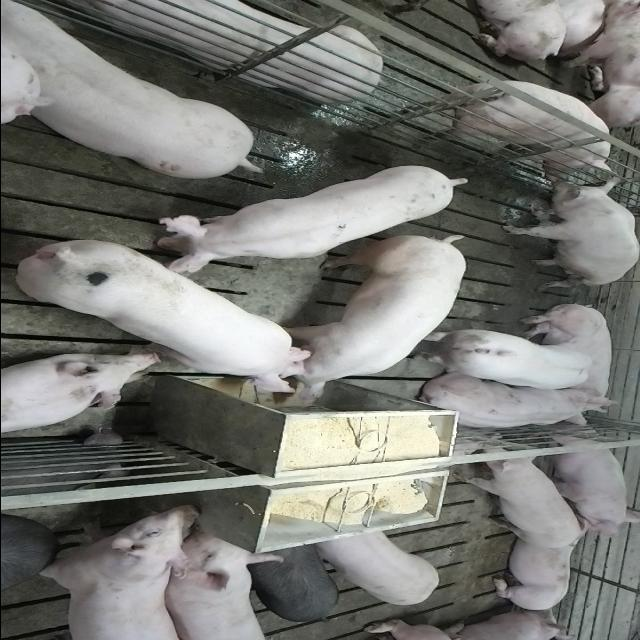Feeding: (13, 232, 316, 394), (262, 241, 470, 414)
Lateral_lying: (520, 303, 623, 415)
Sitting: (497, 176, 639, 286)
Standing: (5, 5, 265, 183), (151, 168, 475, 274), (30, 504, 196, 639), (406, 82, 612, 179), (158, 527, 282, 637), (452, 444, 580, 546), (403, 326, 593, 390), (314, 528, 444, 606), (245, 542, 337, 622), (2, 516, 59, 600)
Sternal_lying: (43, 0, 380, 100), (0, 351, 158, 436), (485, 517, 588, 613)
